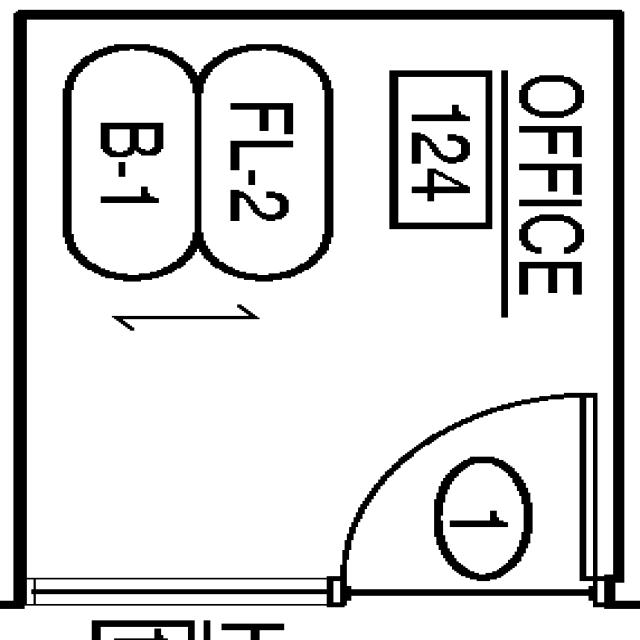Doors: (330, 383, 607, 613)
